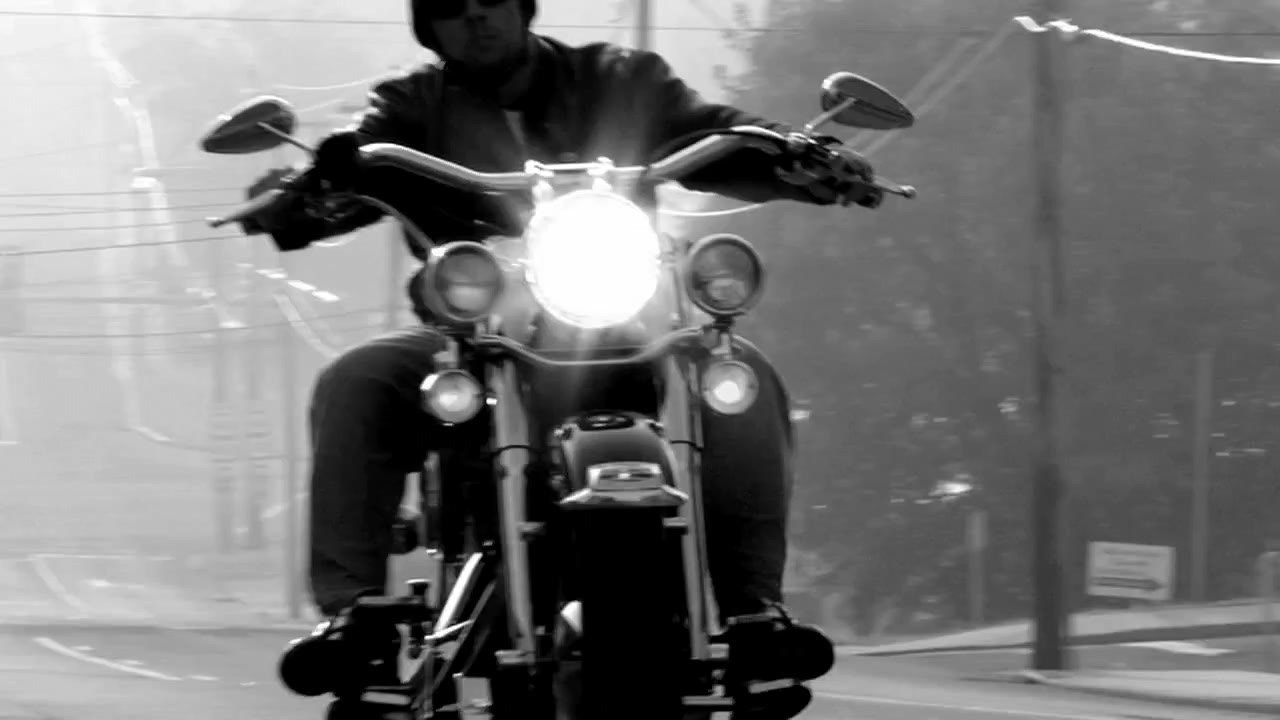motorbike: (203, 74, 918, 718)
